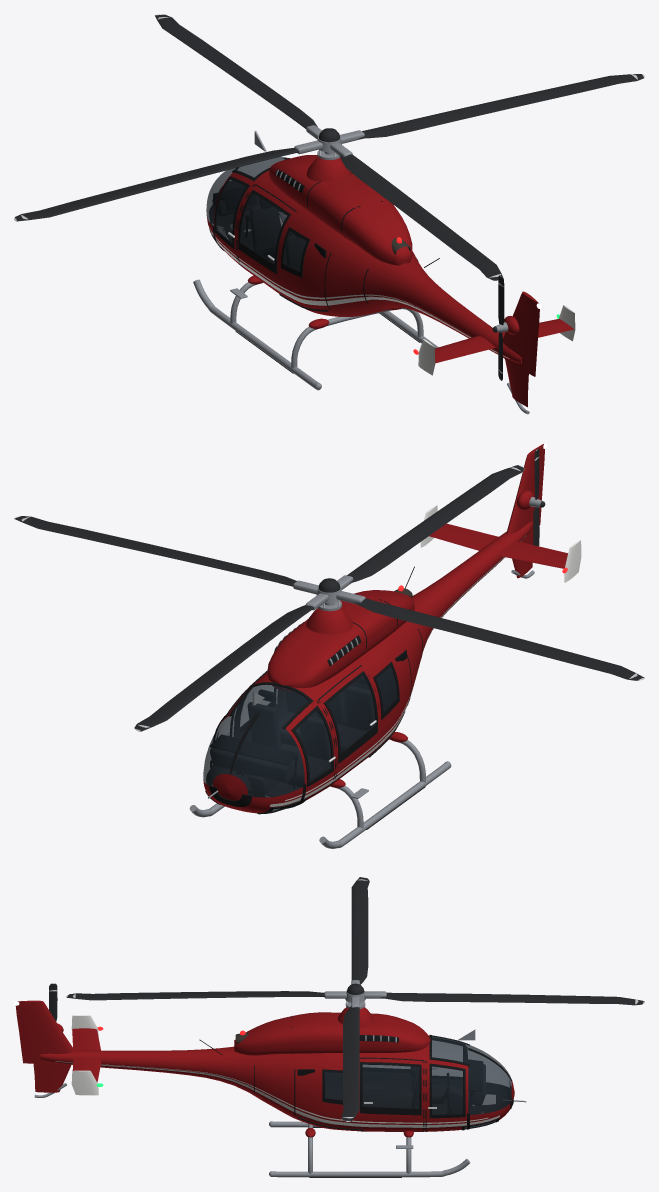
Rendered from helicopter.glb.
3 views of the same model, one above another, from view 1: azimuth 30°, elevation 25°; view 2: azimuth 150°, elevation 25°; view 3: azimuth 270°, elevation 25° (orthographic). The views are drawn at different scales.
Parts seen in each view (by area): view 1: main_rotor_blades, cowling, body_rear, body_front_1, canopy_glass, body_front_0, window_frames, tail_fin, stabiliser, stripe, skid_l, pilot_seat_back_l (+5 smaller); view 2: canopy_glass, main_rotor_blades, cowling, body_front_0, window_frames, body_rear, body_front_1, stabiliser, cabin_liner, tail_fin, instrument_panel, skid_l (+8 smaller); view 3: main_rotor_blades, canopy_glass, cowling, body_rear, body_front_1, body_front_0, window_frames, tail_fin, cabin_liner, stripe, skid_r, stabiliser (+6 smaller).
Boxes of the visible parts, x1,y1,x2,y2 form: main_rotor_blades: [15, 14, 643, 280]; cowling: [269, 155, 412, 265]; body_rear: [355, 252, 521, 363]; body_front_1: [281, 208, 412, 316]; canopy_glass: [206, 156, 306, 271]; body_front_0: [206, 170, 302, 297]; window_frames: [209, 158, 310, 277]; tail_fin: [502, 291, 539, 376]; stabiliser: [435, 319, 573, 363]; stripe: [208, 226, 509, 358]; skid_l: [193, 279, 321, 390]; pilot_seat_back_l: [250, 205, 280, 252]; canopy_glass: [203, 667, 397, 812]; main_rotor_blades: [14, 465, 644, 731]; cowling: [267, 590, 414, 691]; body_front_0: [203, 659, 380, 813]; window_frames: [205, 662, 399, 814]; body_rear: [406, 521, 533, 661]; body_front_1: [227, 622, 420, 792]; stabiliser: [429, 523, 567, 568]; cabin_liner: [206, 667, 396, 796]; tail_fin: [506, 444, 544, 542]; instrument_panel: [210, 748, 292, 782]; skid_l: [319, 761, 451, 848]; main_rotor_blades: [67, 877, 644, 1121]; canopy_glass: [325, 1035, 511, 1129]; cowling: [234, 1012, 430, 1055]; body_rear: [40, 1046, 262, 1100]; body_front_1: [263, 1053, 354, 1130]; body_front_0: [354, 1035, 514, 1131]; window_frames: [322, 1035, 513, 1130]; tail_fin: [15, 1000, 75, 1064]; cabin_liner: [325, 1038, 511, 1114]; stripe: [55, 1061, 499, 1127]; skid_r: [270, 1159, 470, 1177]; stabiliser: [72, 1028, 101, 1082].
Bounding box in the file's own units: 10.01 × 3.19 × 10.91.
